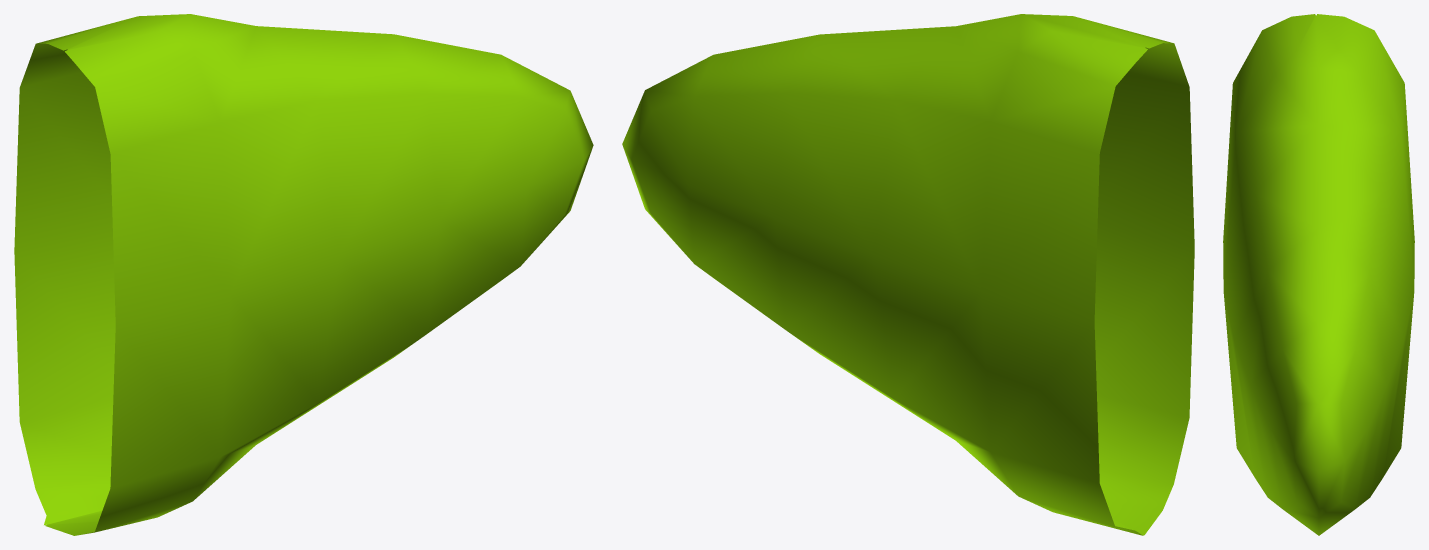
Rendered from Fish3_1_new_new.dae.
3 renders of one model, left to right at view 1: azimuth 30°, elevation 25°; view 2: azimuth 150°, elevation 25°; view 3: azimuth 270°, elevation 25°, orthographic. The views are drawn at different scales.
Parts seen in each view (by area): view 1: Cube_001; view 2: Cube_001; view 3: Cube_001.
Part boxes in pixels (x1,y1,x2,y2): Cube_001: [14, 14, 593, 535]; Cube_001: [622, 14, 1194, 535]; Cube_001: [1223, 14, 1414, 535].
Bounding box in the file's own units: 2.75 × 0.8957 × 2.37.
